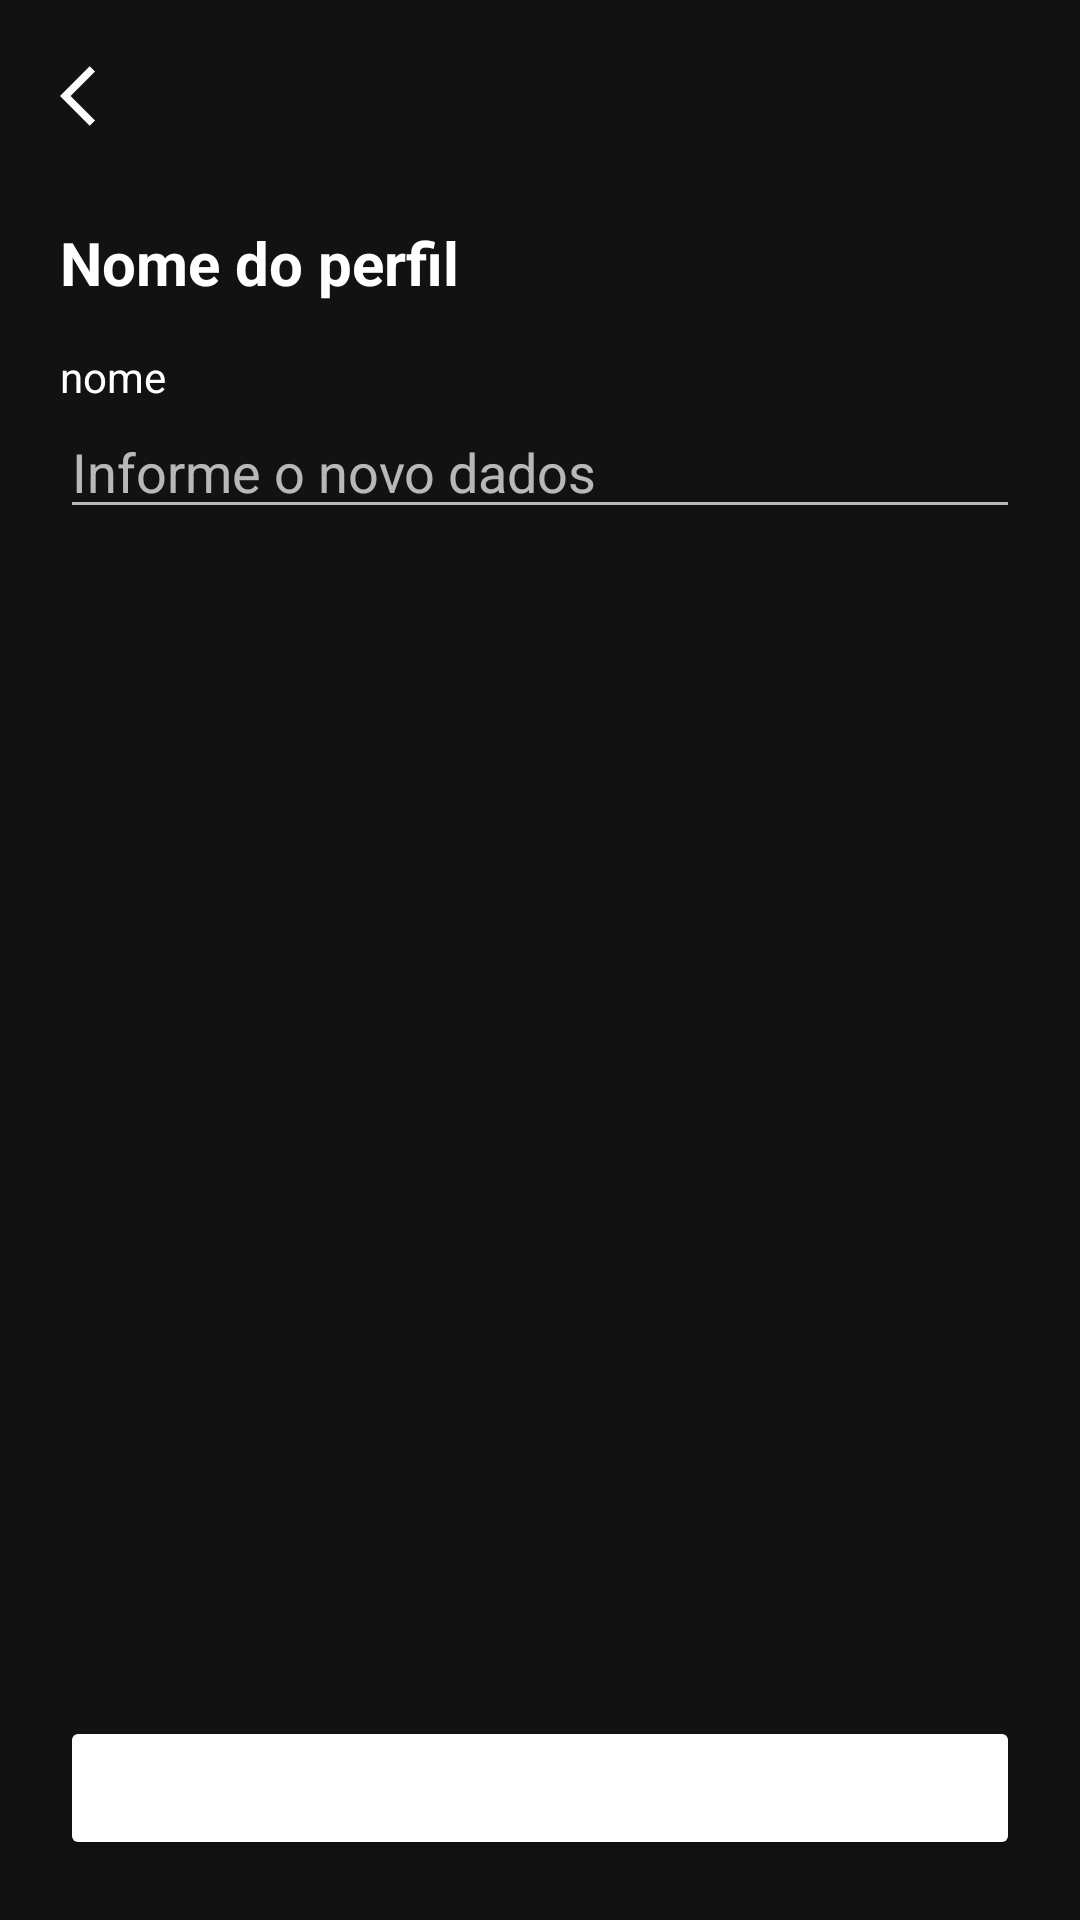

Named icons in this screenshot (1080 x 1920) and their bounding boxes, [x1, y1, x2, y2]:
arrow back: [60, 66, 95, 126]
